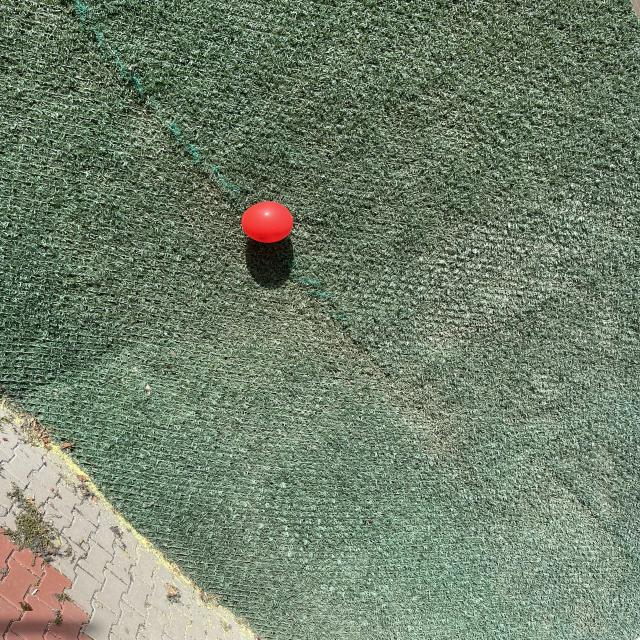balloon: (242, 202, 293, 243)
